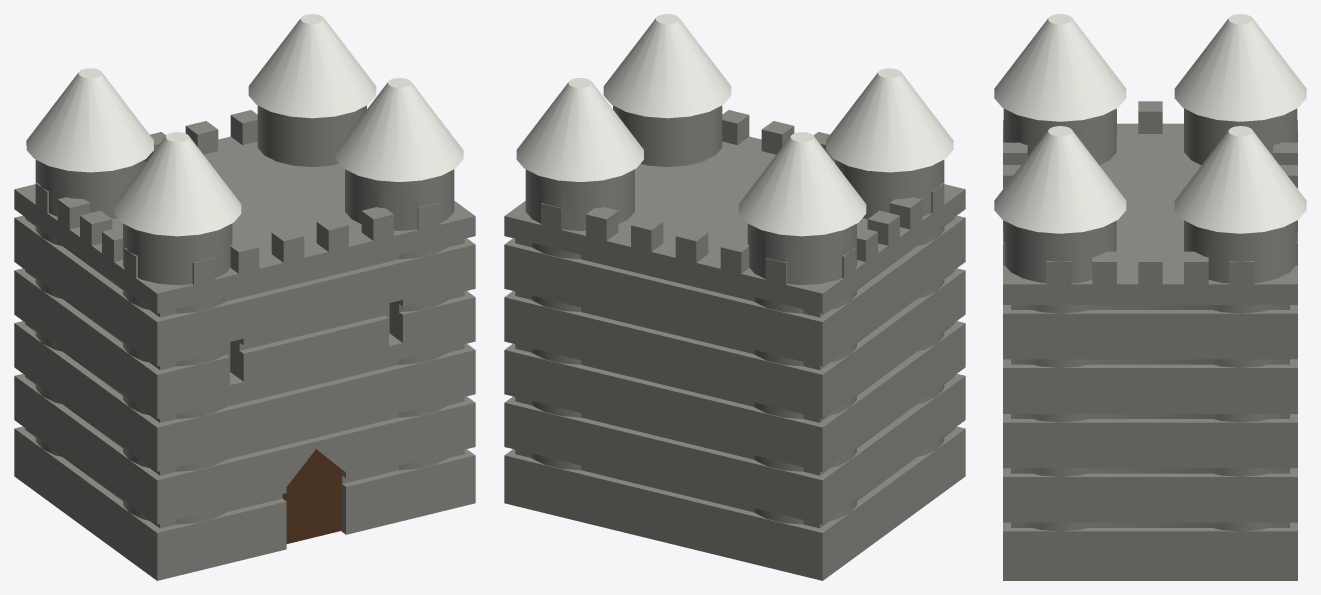
File: burg_weiss.glb
3 views of the same model, side by side, from view 1: azimuth 30°, elevation 25°; view 2: azimuth 150°, elevation 25°; view 3: azimuth 270°, elevation 25° (orthographic). The views are drawn at different scales.
Visible parts, largest first — view 1: burg_weiss; view 2: burg_weiss; view 3: burg_weiss.
Boxes of the visible parts, left/top/right/bottom form: burg_weiss: left=14, top=14, right=475, bottom=580; burg_weiss: left=504, top=14, right=965, bottom=580; burg_weiss: left=994, top=14, right=1306, bottom=580.
Size of the model in its own units: 14.6 by 17.18 by 11.43.
